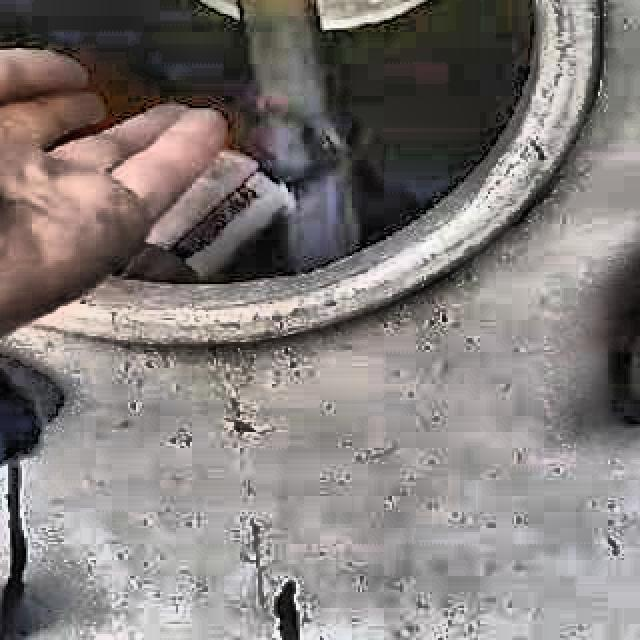glass: (117, 151, 293, 284), (232, 219, 245, 227)
